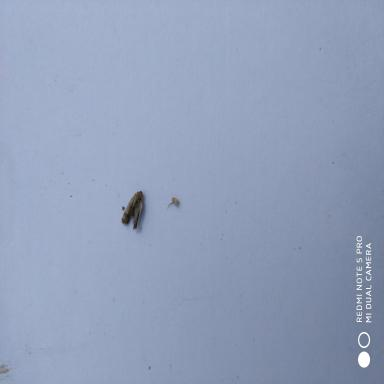pbw: (121, 183, 146, 233)
